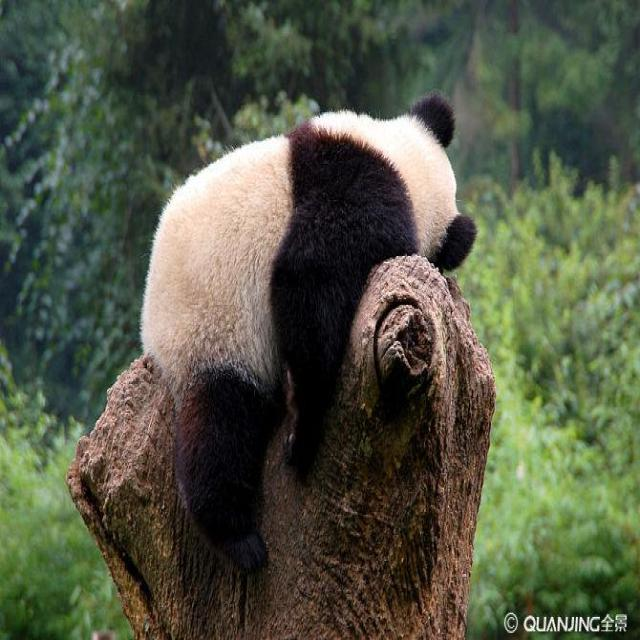panda: (137, 84, 454, 479)
